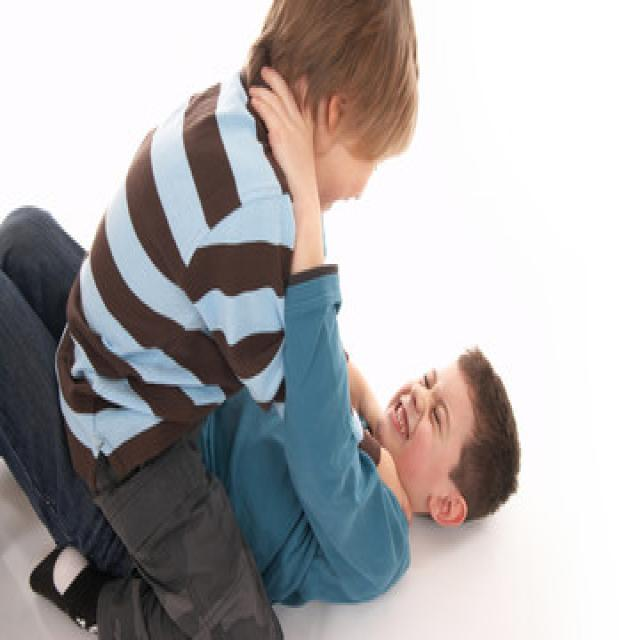fight: (54, 2, 536, 610)
